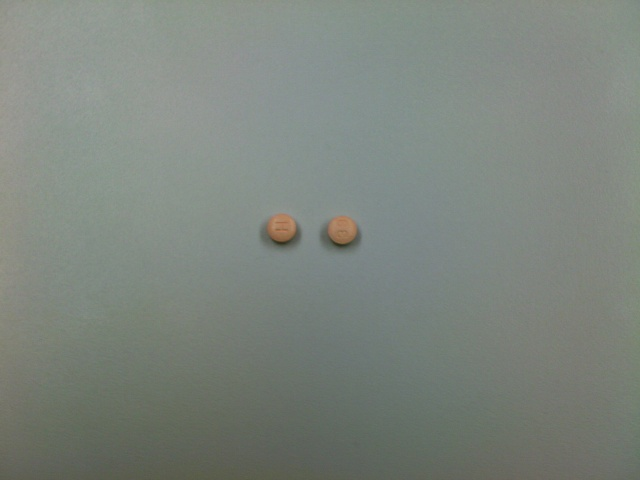0: (336, 217, 350, 229)
3: (337, 228, 348, 239)
H: (274, 219, 290, 235)
